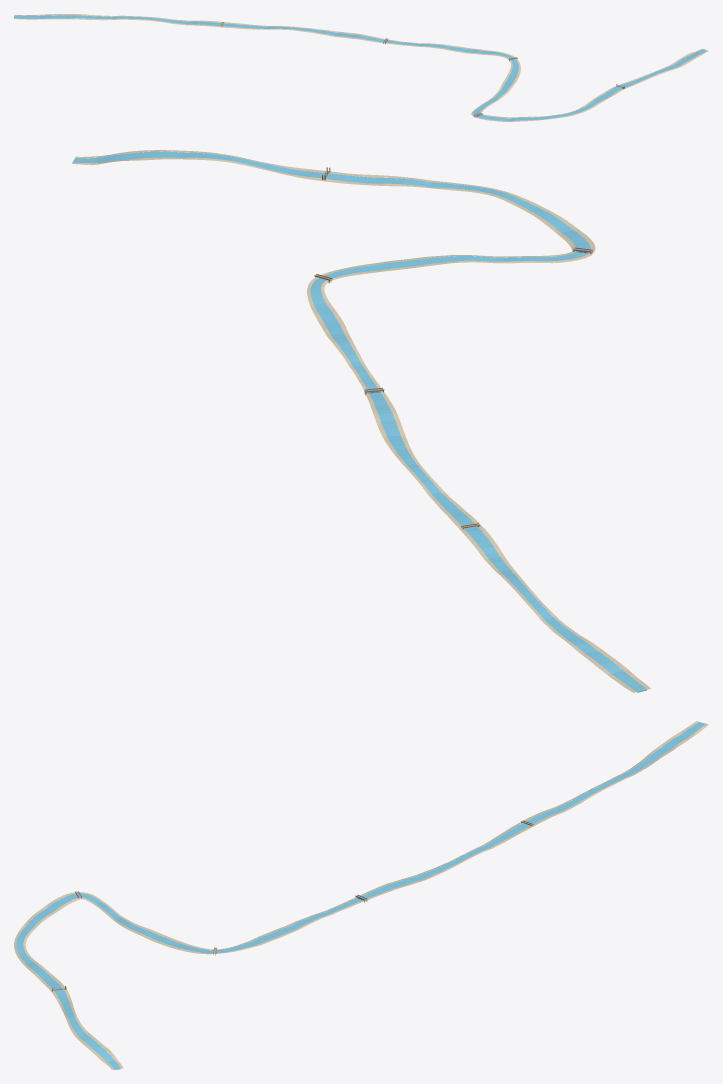
The model's file is river.glb.
The picture shows the model from 3 angles, top to bottom: view 1: azimuth 30°, elevation 25°; view 2: azimuth 150°, elevation 25°; view 3: azimuth 270°, elevation 25°; orthographic projection. The views are drawn at different scales.
Parts seen in each view (by area): view 1: River_Water, River_Sand; view 2: River_Water, River_Sand; view 3: River_Water, River_Sand.
Boxes of the visible parts, box(x1,y1,x2,y2) form: River_Water: box(14, 15, 707, 120); River_Sand: box(14, 14, 708, 121); River_Water: box(73, 151, 647, 691); River_Sand: box(72, 150, 650, 692); River_Water: box(16, 722, 705, 1069); River_Sand: box(14, 721, 708, 1069).
Size of the model in its own units: 836 by 9.17 by 713.
